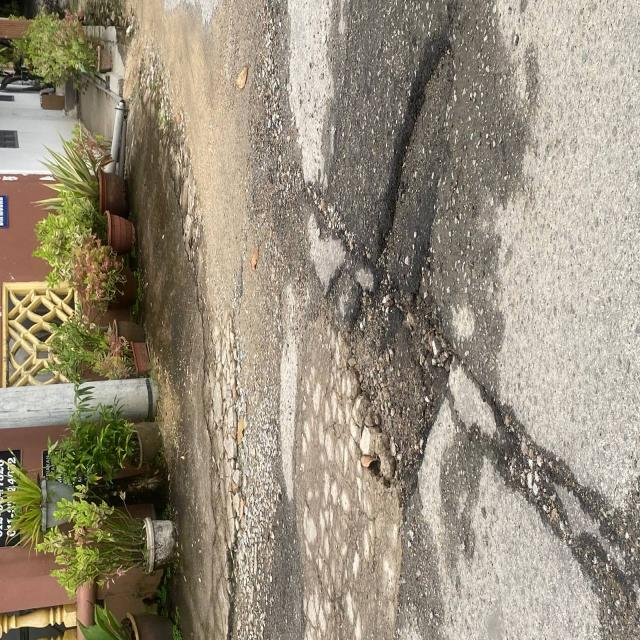pothole: (350, 39, 534, 512)
